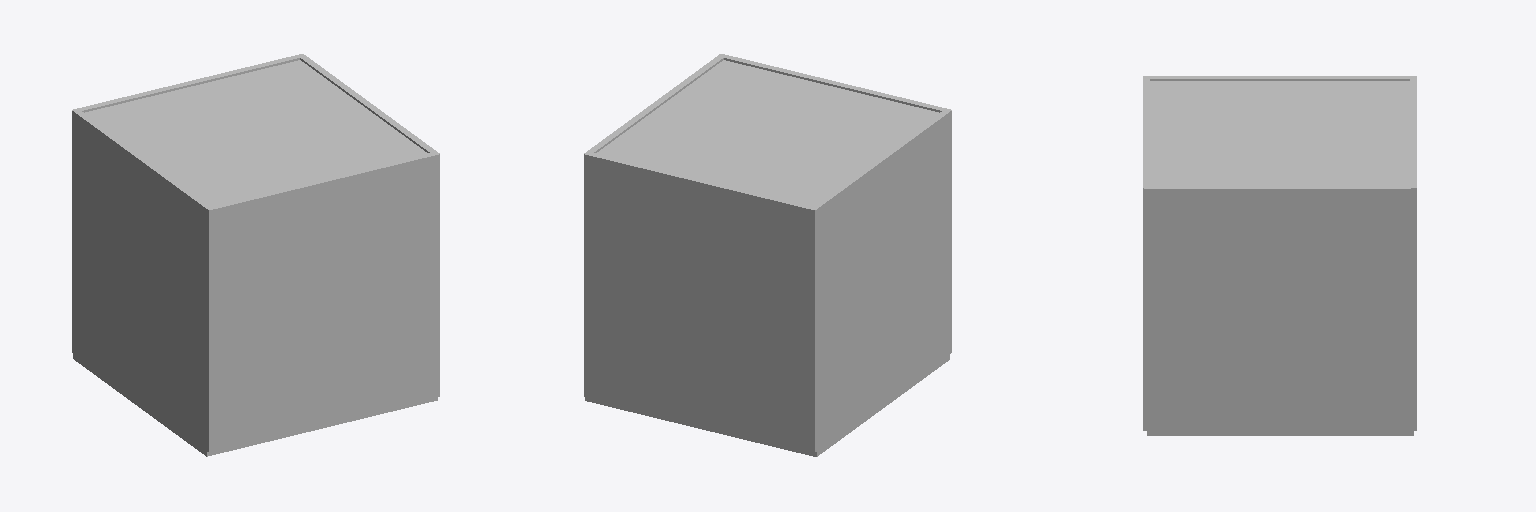
The model's file is SkyBox.obj.
3 views of the same model, side by side, from view 1: azimuth 30°, elevation 25°; view 2: azimuth 150°, elevation 25°; view 3: azimuth 270°, elevation 25° (orthographic).
Parts seen in each view (by area): view 1: Cube; view 2: Cube; view 3: Cube.
Boxes of the visible parts, x1,y1,x2,y2 form: Cube: [72, 54, 439, 456]; Cube: [584, 54, 951, 456]; Cube: [1143, 76, 1416, 435].
Size of the model in its own units: 247 by 253 by 254.